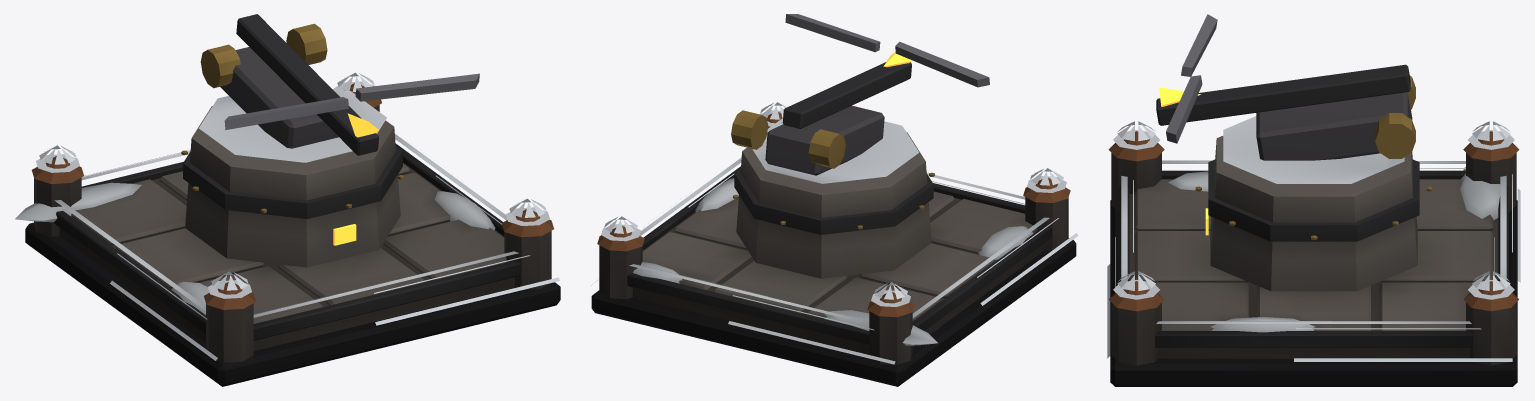
Rendered from nains-2.glb.
The picture shows the model from 3 angles, left to right: view 1: azimuth 30°, elevation 25°; view 2: azimuth 150°, elevation 25°; view 3: azimuth 270°, elevation 25°; orthographic projection. The views are drawn at different scales.
Visible parts, largest first — view 1: hautroc_2_architecture, Tourelle_peint; view 2: hautroc_2_architecture, Tourelle_peint; view 3: hautroc_2_architecture, Tourelle_peint, Diamant.
Boxes of the visible parts, box(x1,y1,x2,y2) form: hautroc_2_architecture: box(15, 72, 560, 386); Tourelle_peint: box(200, 14, 479, 155); hautroc_2_architecture: box(591, 102, 1078, 386); Tourelle_peint: box(731, 14, 989, 175); hautroc_2_architecture: box(1107, 116, 1520, 386); Tourelle_peint: box(1156, 14, 1415, 160); Diamant: box(1159, 87, 1200, 106).
Size of the model in its own units: 0.8655 by 0.5065 by 0.811.
